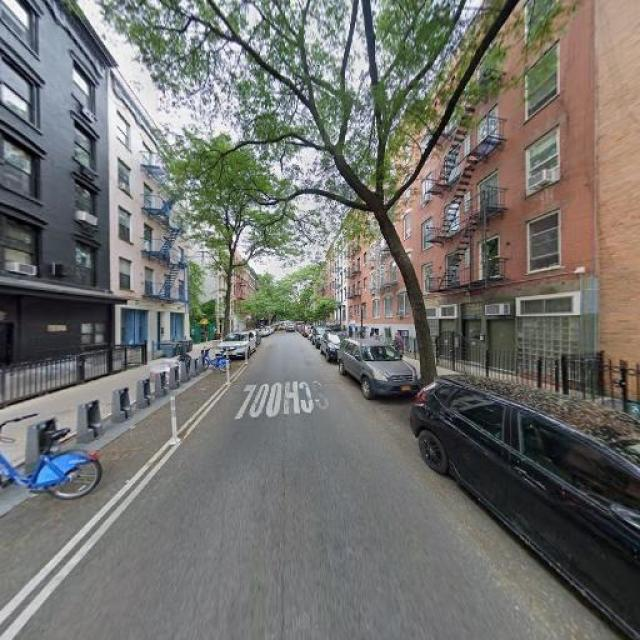Building: (439, 1, 597, 394), (1, 1, 109, 393), (604, 1, 640, 404)
